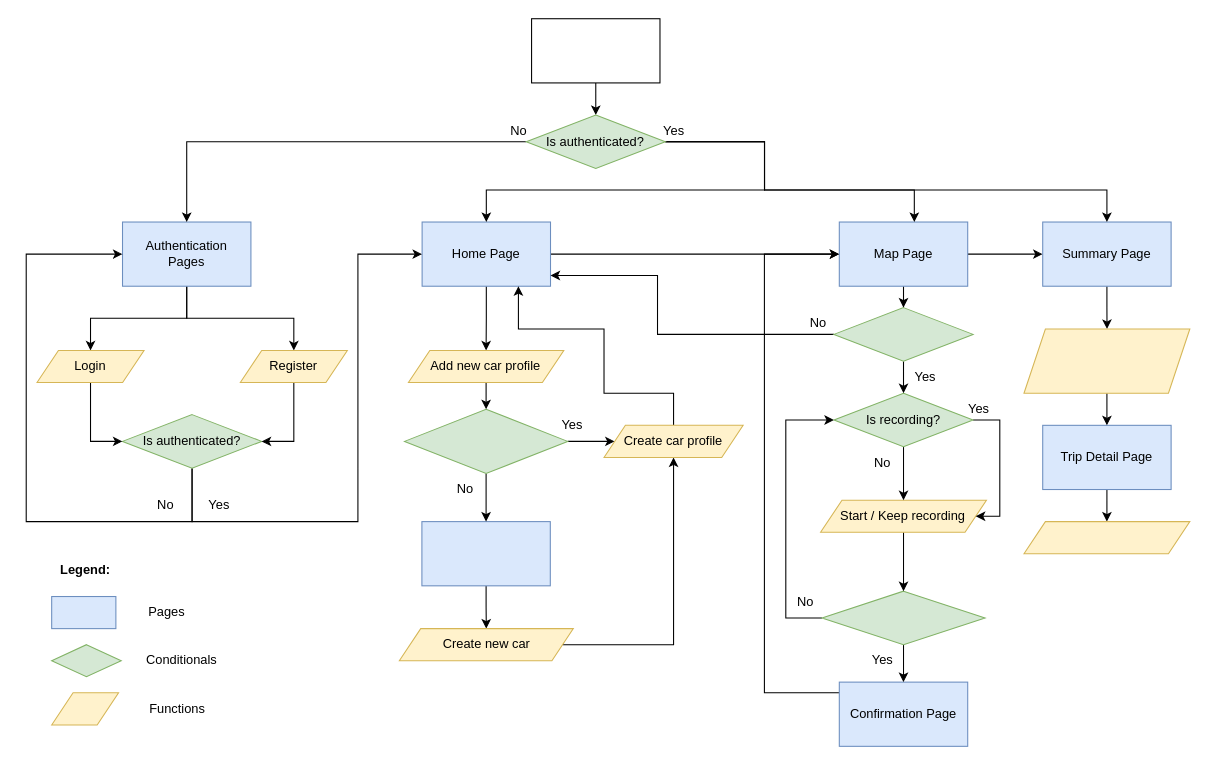
Some shapes in this 1209 by 765 pixel diagram are drawn without their labels. Each missing label, with the centre of its shape:
"Can user find vehicle in DB?" goes at point 485,440.
"Car Creation Page" goes at point 485,553.
"Display filtered trips according to date picker values" goes at point 1106,360.
"Display trip details" goes at point 1106,537.
"Finished recording?" goes at point 903,617.
"Frontend Architecture" goes at point 595,50.
"Has vehicle registered?" goes at point 903,334.
